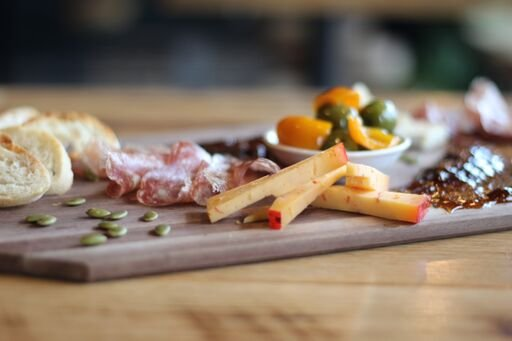taco: (276, 115, 334, 150)
